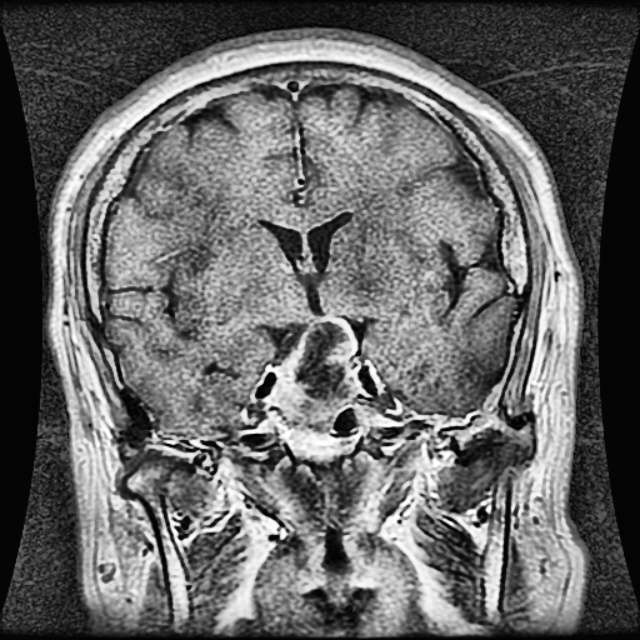Pituitary: (264, 320, 365, 459)
